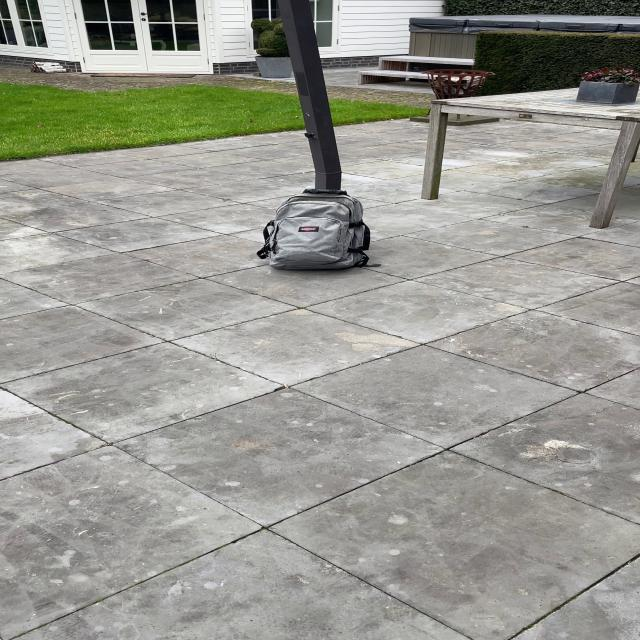backpack: (255, 186, 374, 273)
